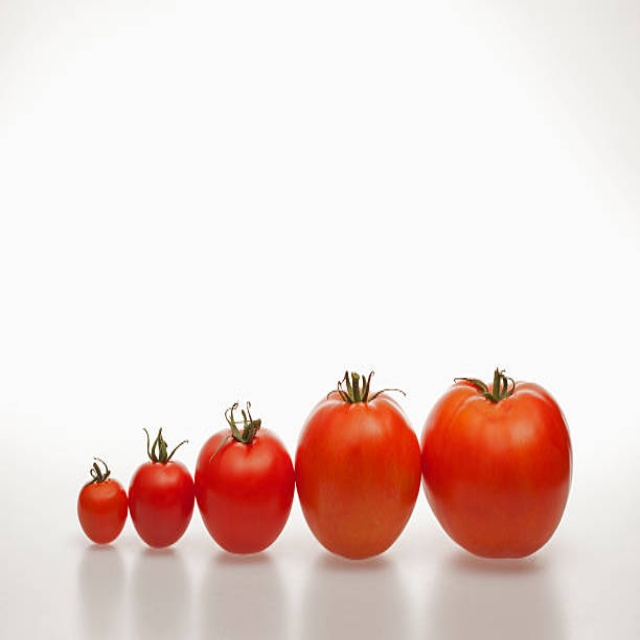tomato: (423, 338, 580, 563), (299, 359, 418, 559), (199, 407, 297, 560), (130, 454, 195, 556), (71, 467, 131, 550)
